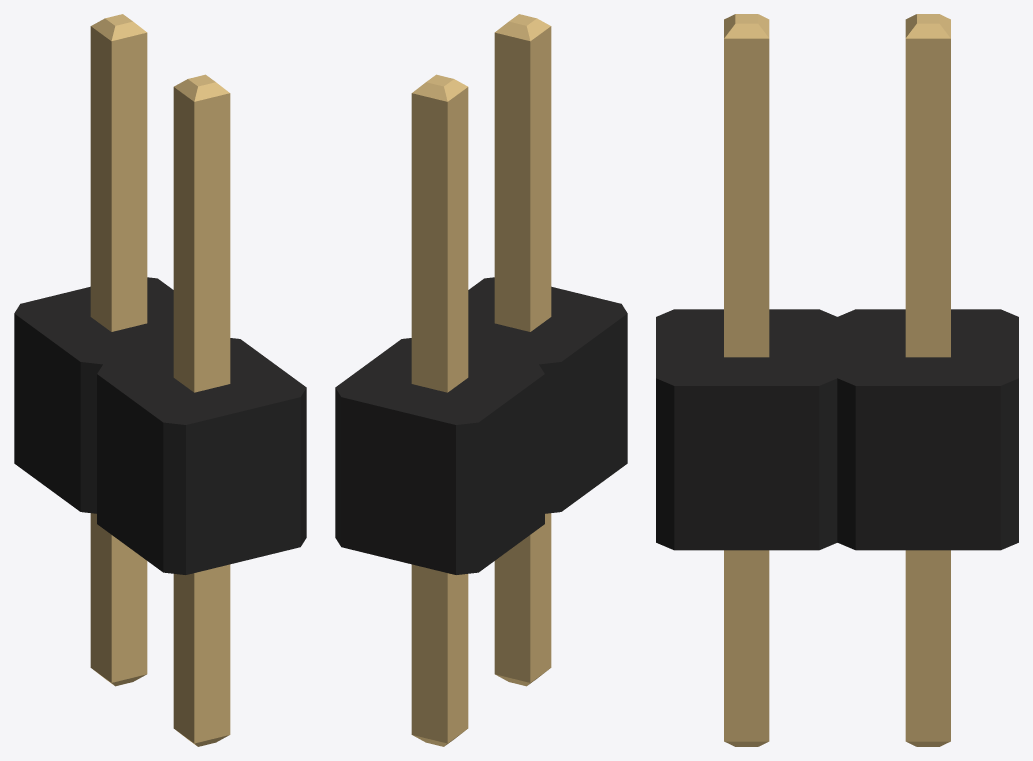
File: PinHeader_1x02_P2.00mm_Vertical.glb
3 renders of one model, left to right at view 1: azimuth 30°, elevation 25°; view 2: azimuth 150°, elevation 25°; view 3: azimuth 270°, elevation 25°, orthographic. The views are drawn at different scales.
Visible parts, largest first — view 1: =>[0:1:1:3]; view 2: =>[0:1:1:3]; view 3: =>[0:1:1:3].
Part boxes in pixels (<box>): =>[0:1:1:3]: <box>14,14,306,746</box>; =>[0:1:1:3]: <box>335,14,627,746</box>; =>[0:1:1:3]: <box>656,14,1018,746</box>.
Bounding box in the file's own units: 0.002 × 0.0088 × 0.004.
